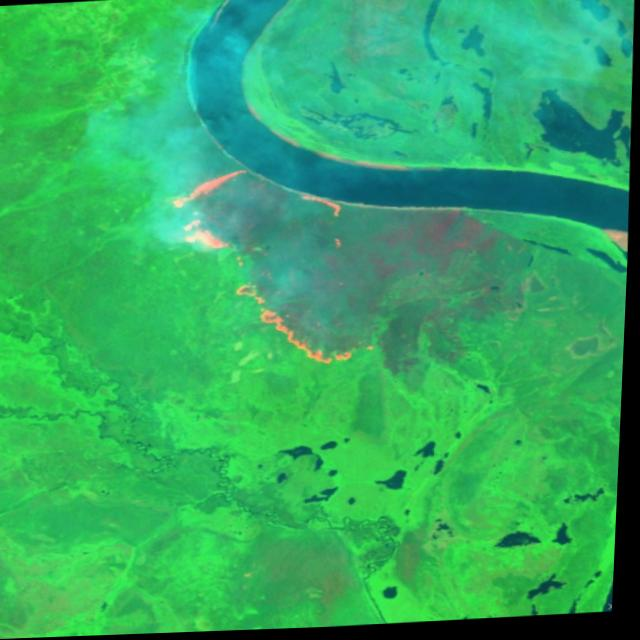fire: (165, 161, 392, 381)
